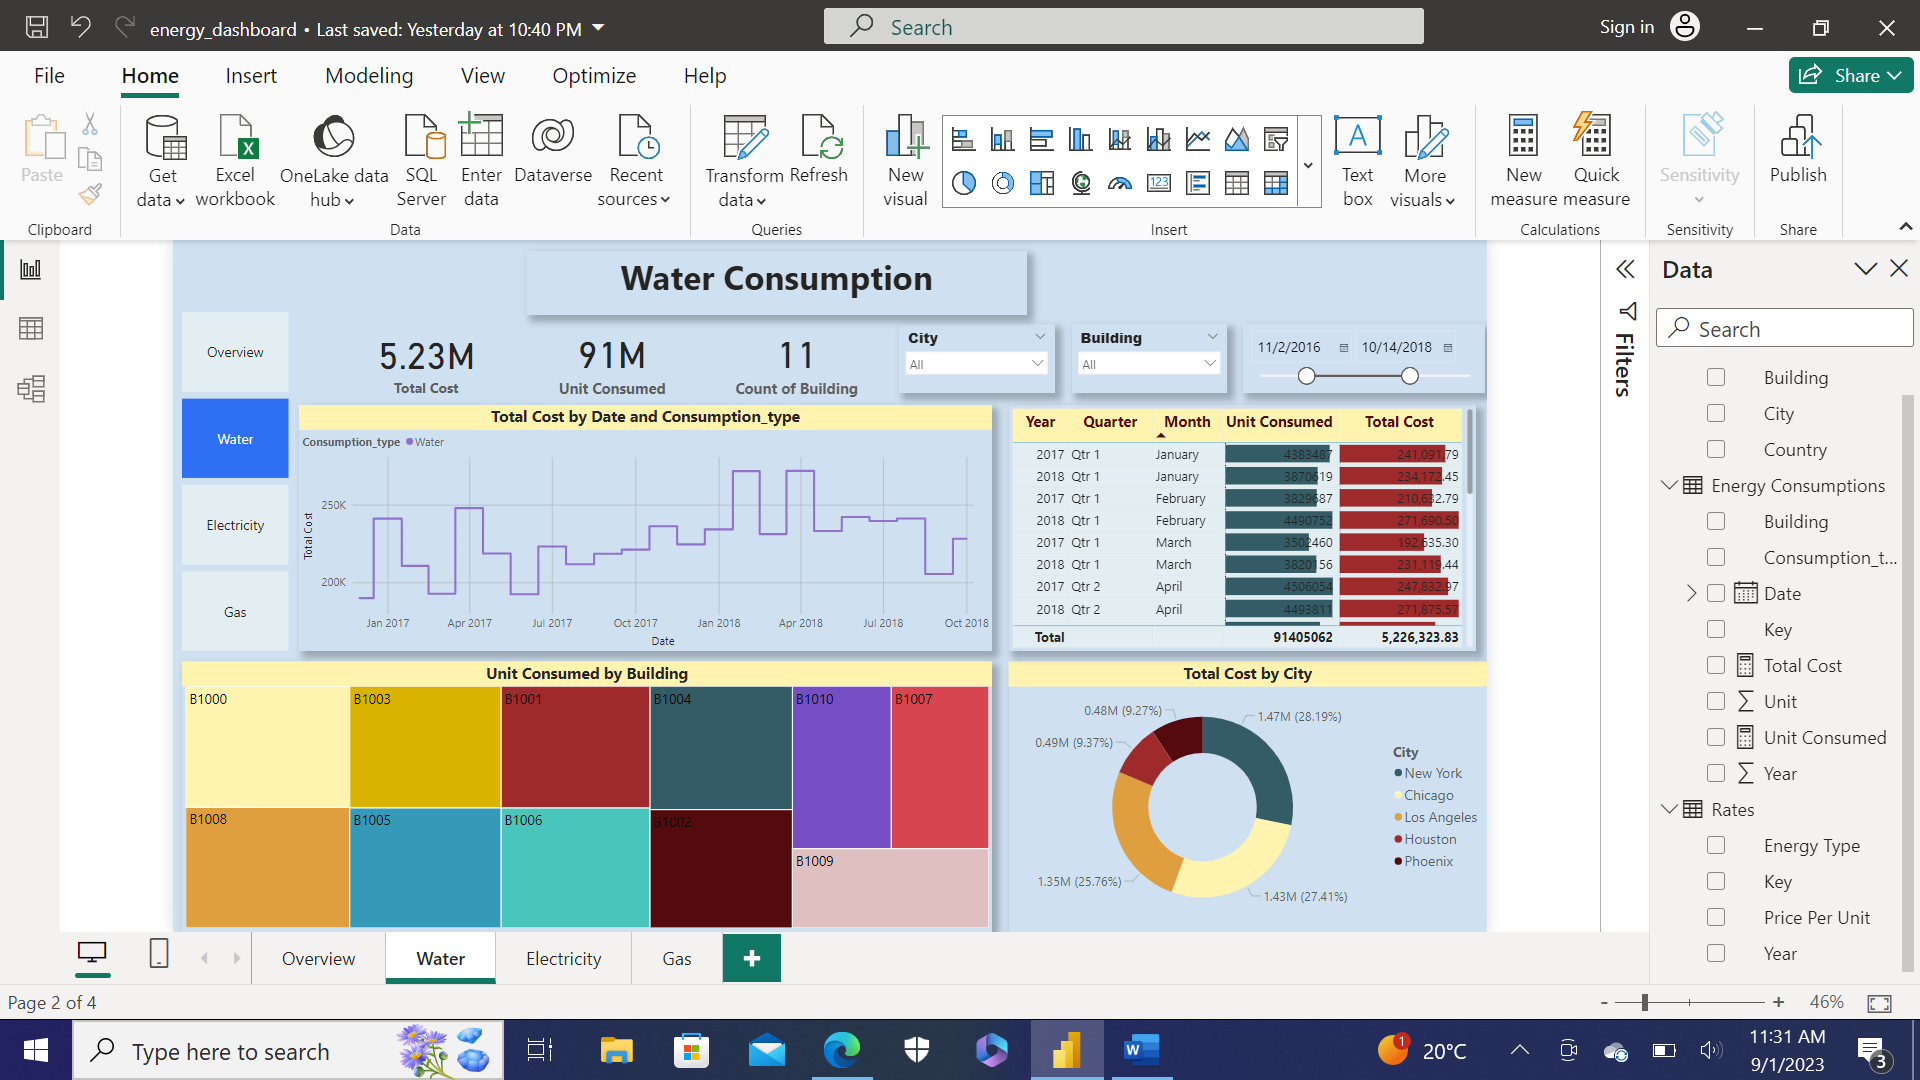

Layout of this report page (visuals, bound fields, positions):
{"tool":"powerbi","page":{"name":"Water","canvas":[1900,1000],"ordinal":1},"visuals":[{"type":"lineChart","fields":{"Category":["Energy Consumptions.Date"],"Y":["Energy Consumptions.Total Cost"],"Series":["Energy Consumptions.Consumption_type"]},"box":[182.2,238.6,1002.2,355.7],"z":0},{"type":"donutChart","fields":{"Y":["Energy Consumptions.Total Cost"],"Category":["Building Master.City"]},"box":[1208.2,609.5,692,390.5],"z":1000},{"type":"treemap","fields":{"Values":["Energy Consumptions.Unit Consumed"],"Group":["Energy Consumptions.Building"]},"box":[13,609.5,1171.4,390.5],"z":2000},{"type":"tableEx","fields":{"Values":["Energy Consumptions.Date.Variation.Date Hierarchy.Year","Energy Consumptions.Date.Variation.Date Hierarchy.Quarter","Energy Consumptions.Date.Variation.Date Hierarchy.Month","Energy Consumptions.Unit Consumed","Energy Consumptions.Total Cost"]},"box":[1208.2,238.6,676.8,355.7],"z":3000},{"type":"card","fields":{"Values":["Energy Consumptions.Total Cost"]},"box":[240.8,108.5,250,130],"z":4000},{"type":"card","fields":{"Values":["Energy Consumptions.Unit Consumed"]},"box":[508.7,108.5,250,130],"z":5000},{"type":"slicer","fields":{"Values":["Energy Consumptions.Building"]},"box":[1298.3,122.2,225,100],"z":6000},{"type":"slicer","fields":{"Values":["Building Master.City"]},"box":[1049.9,122.2,225,100],"z":7000},{"type":"slicer","fields":{"Values":["Energy Consumptions.Date"]},"box":[1546.6,122.2,350,100],"z":8000},{"type":"pageNavigator","box":[13,104.1,154,490.2],"z":9000},{"type":"actionButton","title":"Water Consumption","box":[511.9,15.2,722.3,93.3],"z":10000},{"type":"card","fields":{"Values":["Count(Building Master.Building)"]},"box":[776.6,108.5,250,130],"z":11000}]}

Visuals, with their boxes on the page's 1900x1000 design canvas (x1, y1, x2, y2). These are canvas units, not pixel positions in the 1920x1080 screenshot, which may show the page scaled, cropped or inside an application window:
lineChart - Energy Consumptions.Date x Energy Consumptions.Total Cost: 182 239 1184 594
donutChart - Energy Consumptions.Total Cost x Building Master.City: 1208 610 1900 1000
treemap - Energy Consumptions.Unit Consumed x Energy Consumptions.Building: 13 610 1184 1000
tableEx - Energy Consumptions.Date.Variation.Date Hierarchy.Year x Energy Consumptions.Date.Variation.Date Hierarchy.Quarter: 1208 239 1885 594
card - Energy Consumptions.Total Cost: 241 108 491 238
card - Energy Consumptions.Unit Consumed: 509 108 759 238
slicer - Energy Consumptions.Building: 1298 122 1523 222
slicer - Building Master.City: 1050 122 1275 222
slicer - Energy Consumptions.Date: 1547 122 1897 222
pageNavigator: 13 104 167 594
"Water Consumption" actionButton: 512 15 1234 108
card - Count(Building Master.Building): 777 108 1027 238
